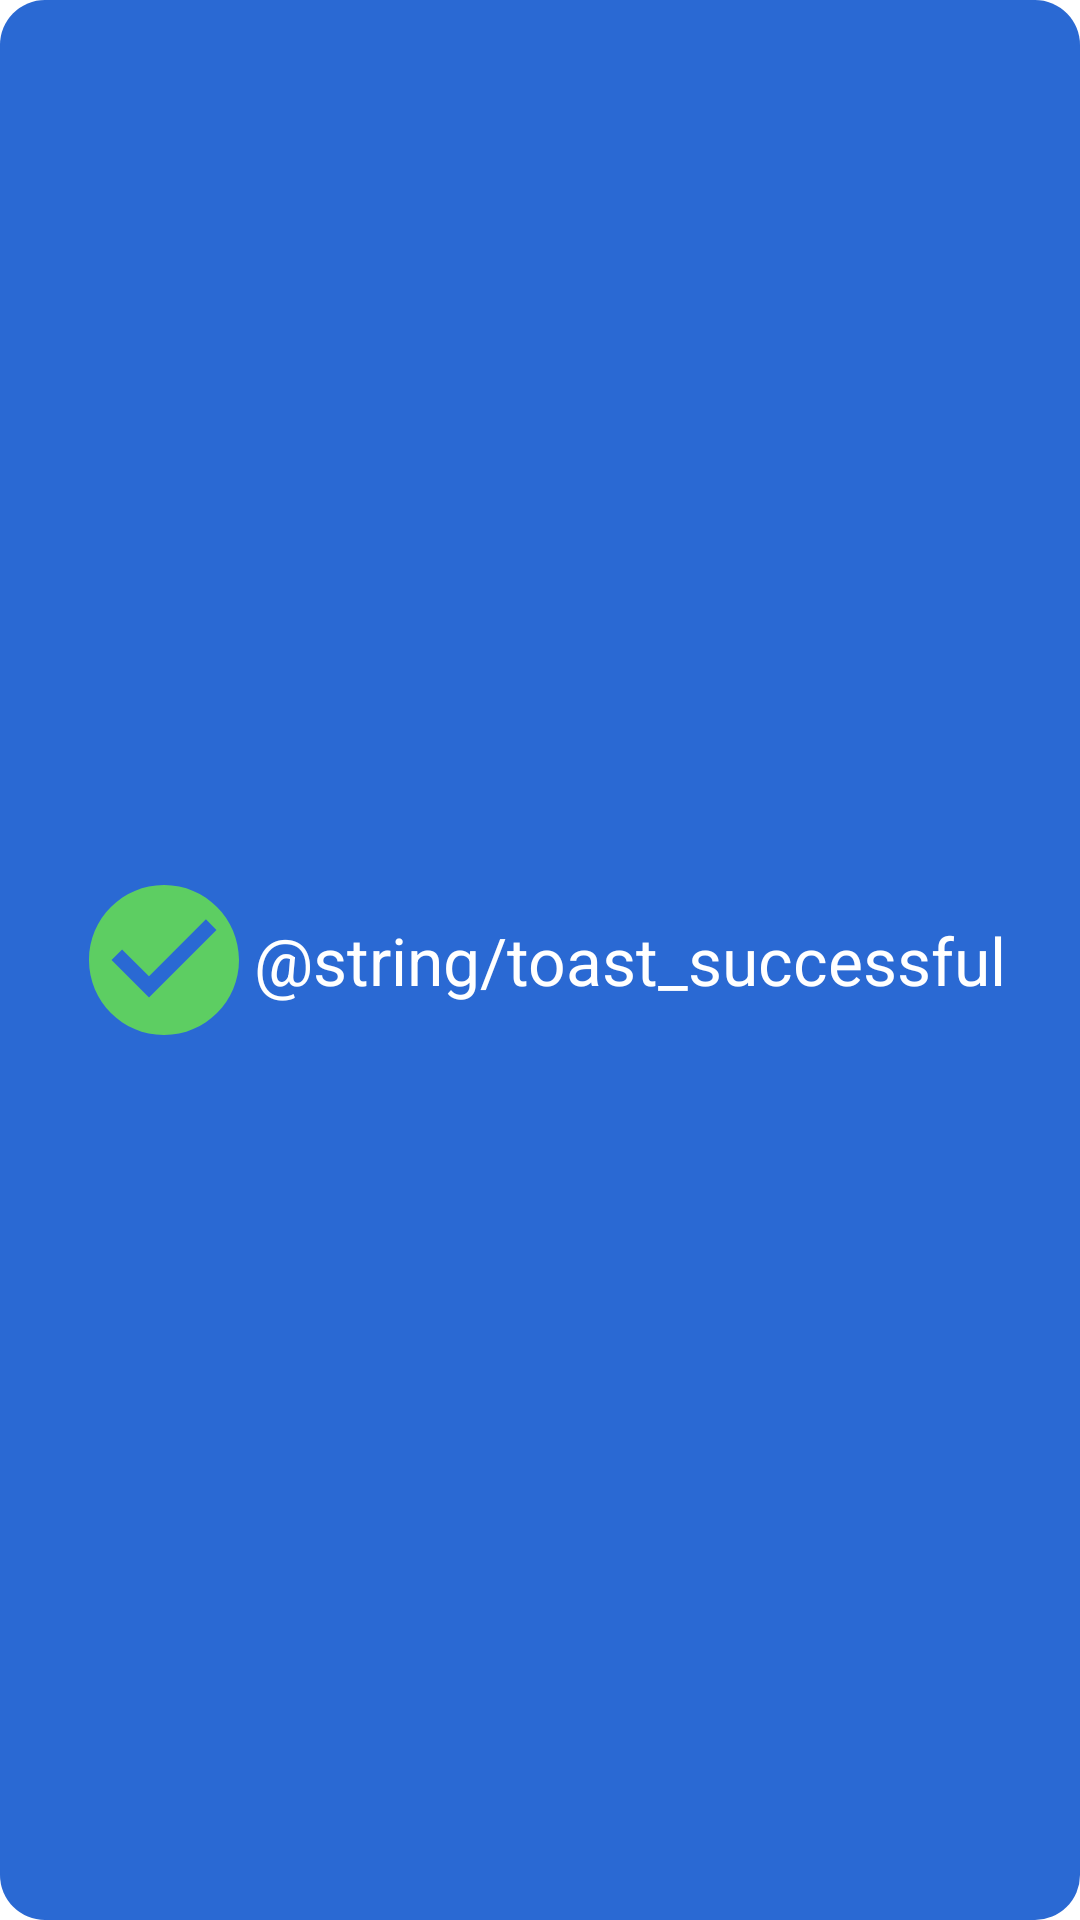

Icon bounding boxes for this 1080px×1920px phone screenshot, format [x1,y1,x2,y2]:
Berhasil menambah situs: [89,885,239,1035]
